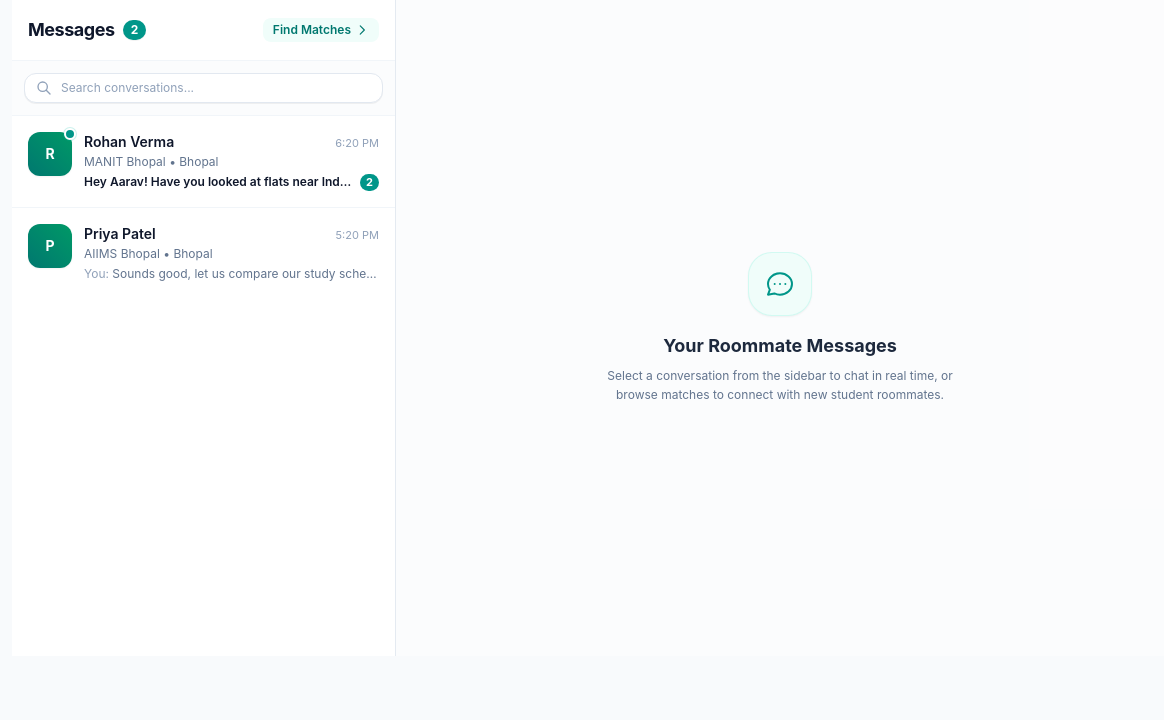
ChatsPage Component › filters conversations when typing into search input
Check: the heading "Rohan Verma" is shown, box [84,132,174,152]
Check: the heading "Priya Patel" is shown, box [84,224,156,244]
Type "Priya" into the field with placeholder "Search conversations...". click: (204, 88)
box: [24,73,383,103]
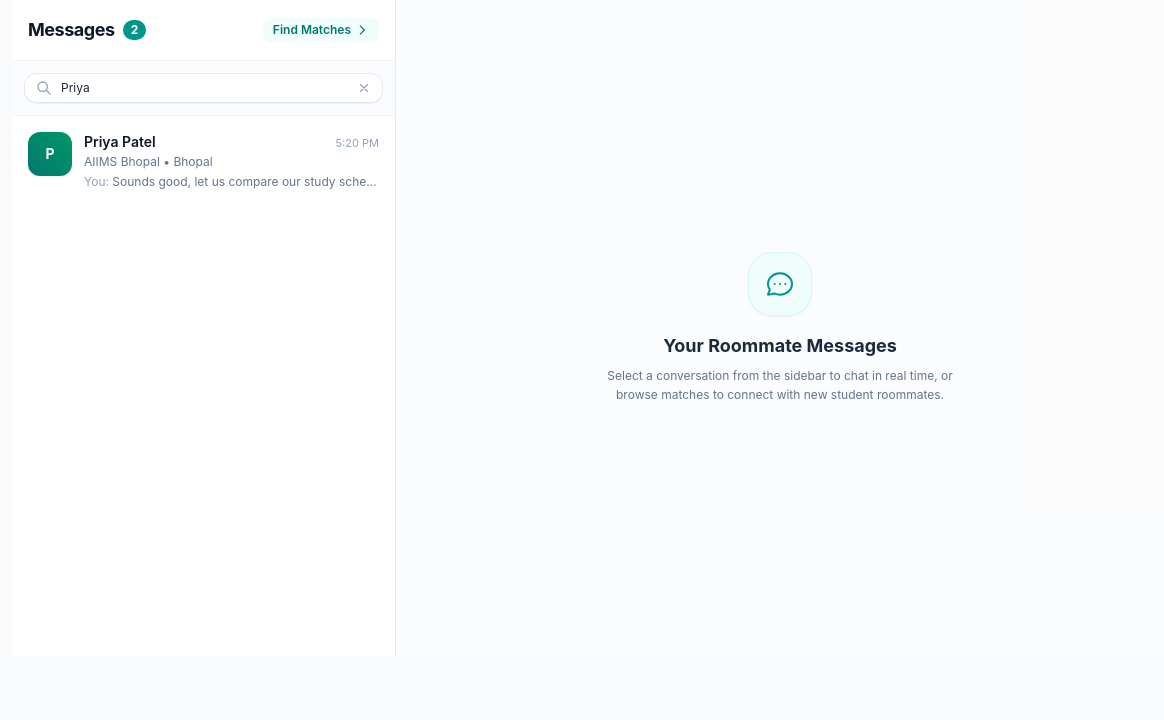
Check: the heading "Priya Patel" is shown, box [84,132,156,152]
Check: the button "Rohan Verma" is gone
# Clear search
Clear the field with placeholder "Search conversations...". click: (204, 88)
box: [24,73,383,103]
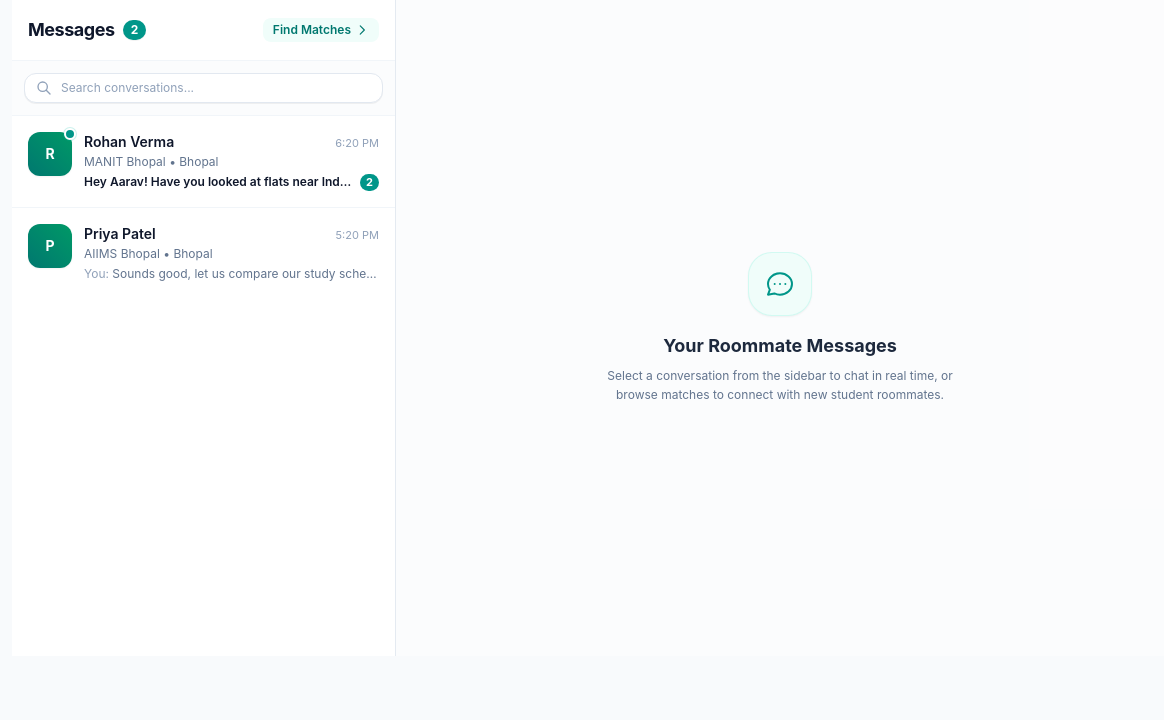
Check: the heading "Rohan Verma" is shown, box [84,132,174,152]
